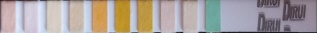color 1: (2, 3, 14, 33)
color 10: (207, 2, 219, 30)
color 2: (25, 3, 37, 31)
color 3: (48, 3, 60, 31)
color 4: (71, 4, 82, 31)
color 5: (94, 2, 106, 31)
color 6: (116, 3, 129, 31)
color 7: (139, 2, 151, 30)
color 8: (162, 2, 173, 31)
color 9: (184, 3, 196, 30)
